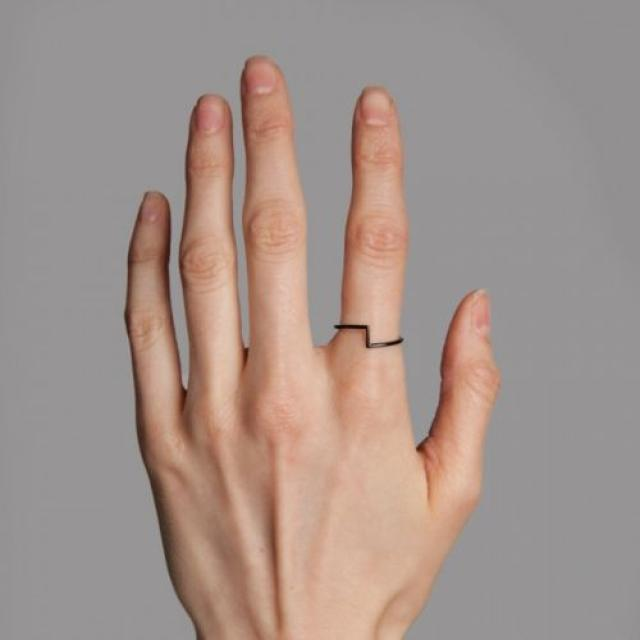Fingernail: (244, 56, 276, 96), (196, 94, 225, 135), (471, 289, 491, 339), (360, 87, 390, 120), (138, 192, 163, 225)
